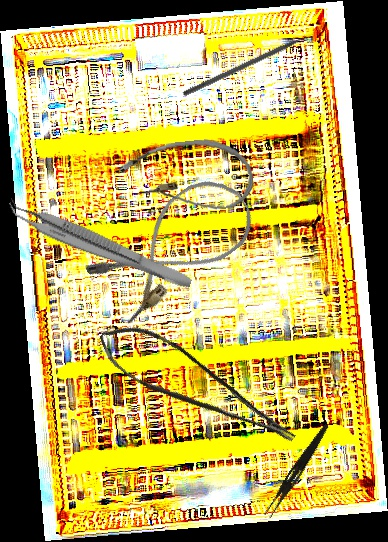Cannula: (81, 165, 265, 328), (117, 134, 256, 220)
Dressing Forceps: (263, 420, 331, 521)
Hook Surgical: (181, 27, 323, 98)
Micro Scissor: (89, 304, 301, 477)
Tissue Forceps: (2, 195, 198, 292)
